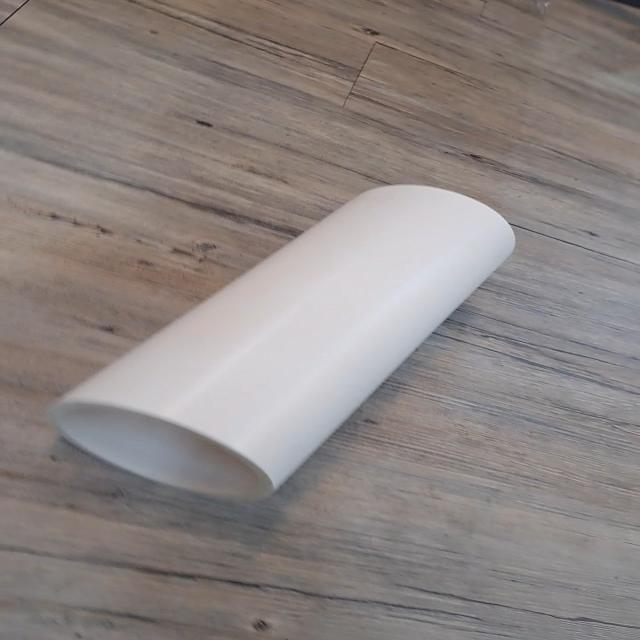CORAL: (42, 172, 556, 512)
